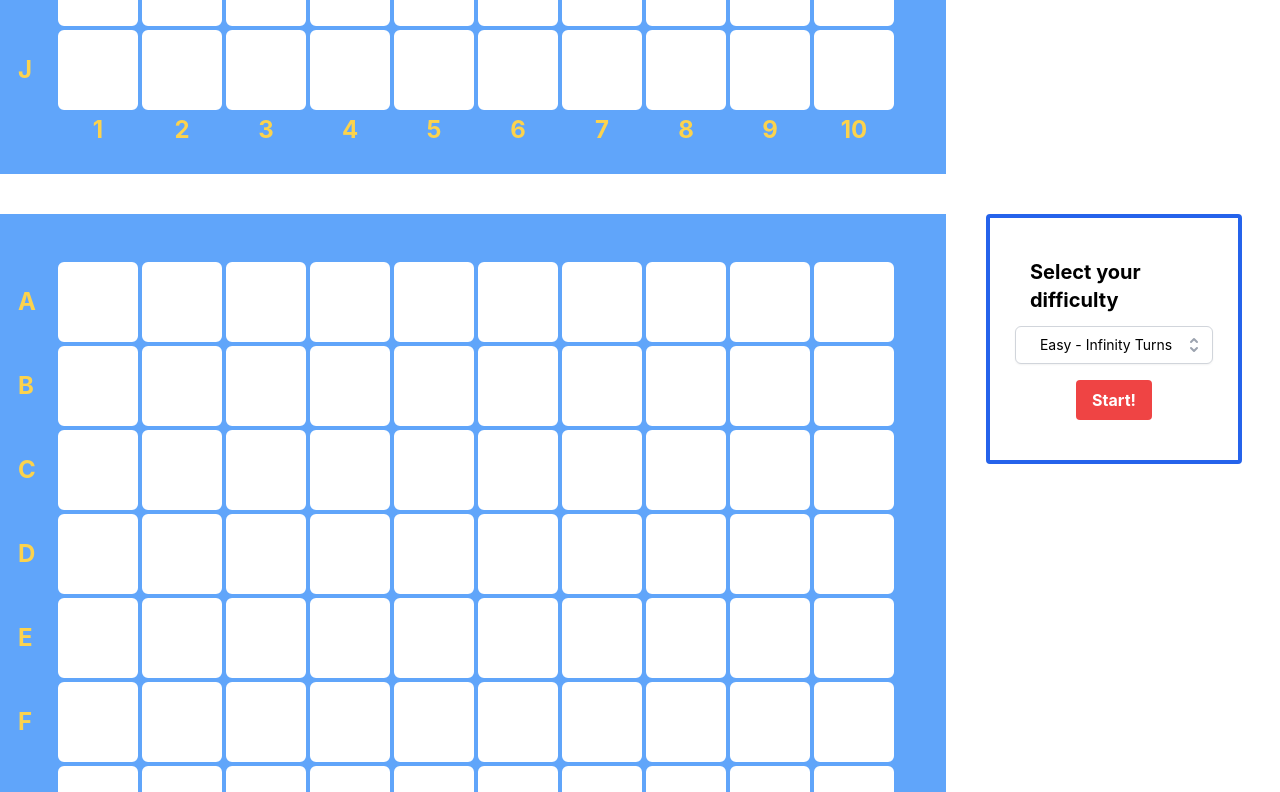
Test case: Tests in <Home /> › The game should start correctly
(page scrolled)
Click the button "Start!" at x=1114, y=400, box [1076,380,1152,420]
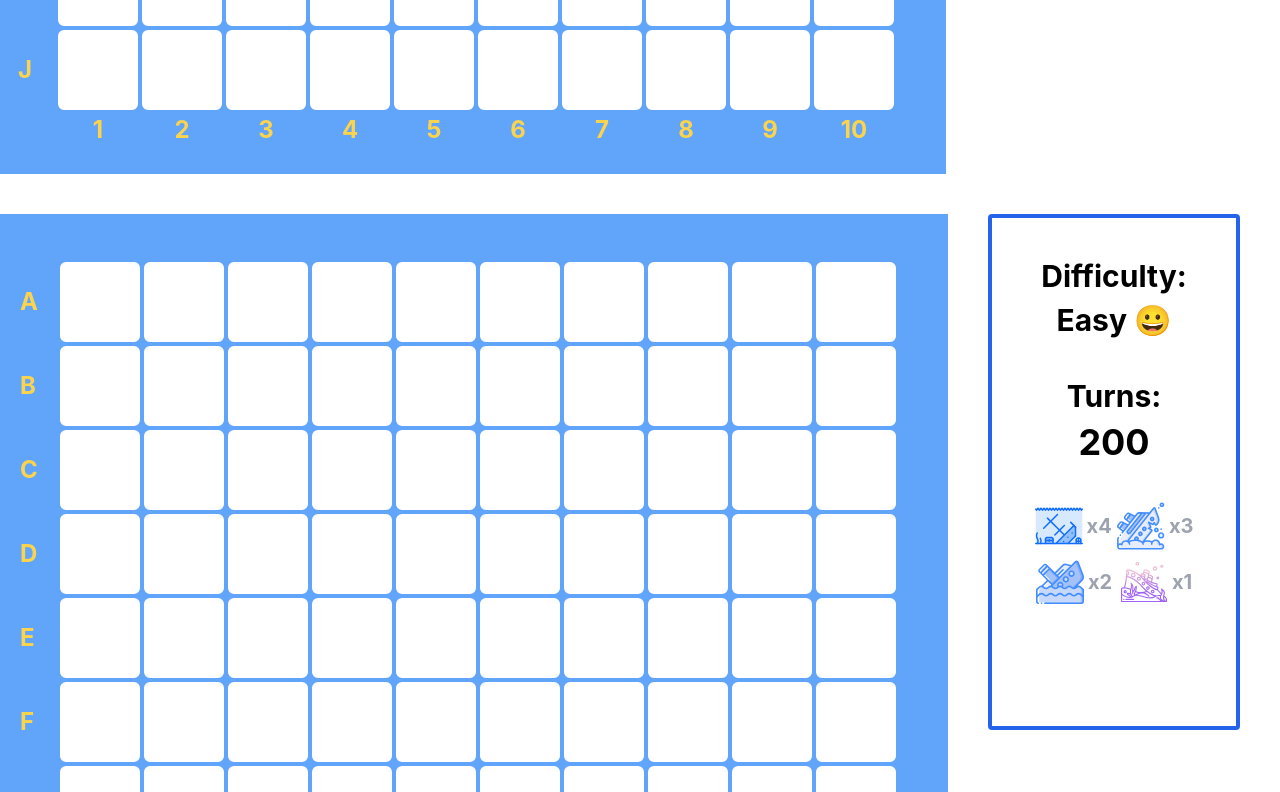
Now the text "Difficulty:" is shown, box [1041,258,1187,294]
Now the text "Turns:" is shown, box [1067,378,1161,414]
